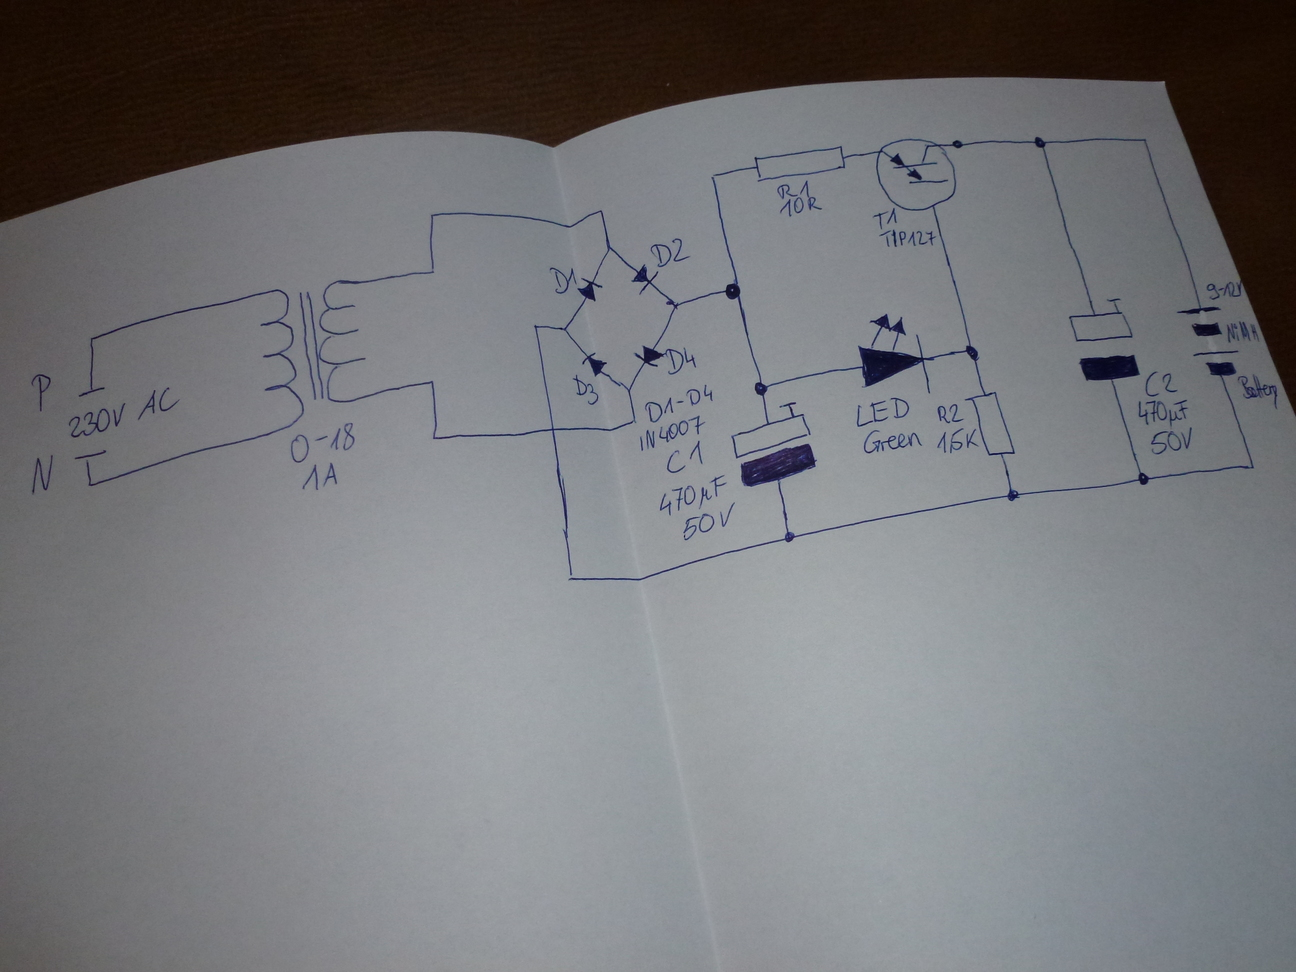capacitor.polarized: (728, 400, 817, 490), (1066, 292, 1141, 387)
crossover: (548, 423, 558, 433)
diode: (632, 342, 667, 369), (627, 263, 657, 294), (574, 273, 603, 303), (578, 350, 610, 378)
diode.light_emitting: (854, 311, 933, 395)
junction: (722, 279, 746, 303), (962, 341, 983, 361), (751, 378, 771, 398), (1003, 486, 1021, 504), (1031, 133, 1049, 151), (781, 527, 797, 544), (1135, 471, 1151, 488), (84, 331, 100, 347), (423, 207, 440, 222), (665, 296, 680, 311), (84, 475, 98, 490), (707, 171, 721, 184), (426, 264, 439, 278), (593, 206, 607, 218), (425, 376, 438, 388), (601, 244, 614, 256), (1245, 460, 1258, 472), (629, 414, 640, 427), (429, 431, 440, 443), (621, 383, 634, 393), (565, 572, 576, 583), (561, 323, 570, 334), (531, 320, 540, 331), (1139, 135, 1149, 144)
resistor: (752, 142, 846, 184), (964, 390, 1017, 458)
terminal: (74, 383, 110, 401), (72, 446, 109, 464)
text: (70, 386, 185, 443), (656, 472, 728, 517), (643, 381, 714, 425), (286, 422, 358, 465), (637, 414, 707, 452), (681, 499, 737, 543), (854, 395, 911, 430), (860, 427, 937, 452), (1135, 398, 1191, 430), (1236, 372, 1279, 410), (296, 457, 339, 495), (664, 438, 706, 475), (877, 226, 937, 250), (27, 370, 58, 415), (647, 237, 692, 269), (27, 452, 56, 497), (934, 427, 980, 455), (1148, 428, 1194, 455), (1142, 368, 1179, 398), (777, 195, 823, 218), (657, 346, 695, 374), (1225, 320, 1262, 345), (1204, 278, 1244, 301), (548, 266, 578, 296), (571, 374, 599, 405), (775, 178, 811, 199), (866, 211, 904, 231), (935, 401, 964, 426)
transformer: (251, 286, 365, 404)
transistor: (875, 134, 960, 212)
voltage.dc: (1172, 302, 1241, 376)
